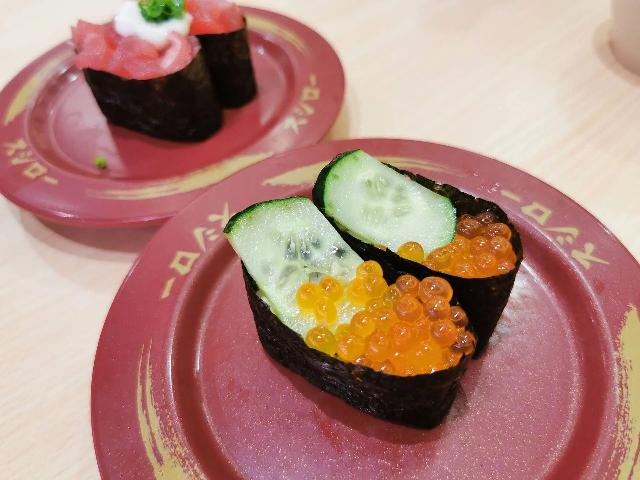janred: (86, 151, 589, 475), (11, 25, 325, 193)
